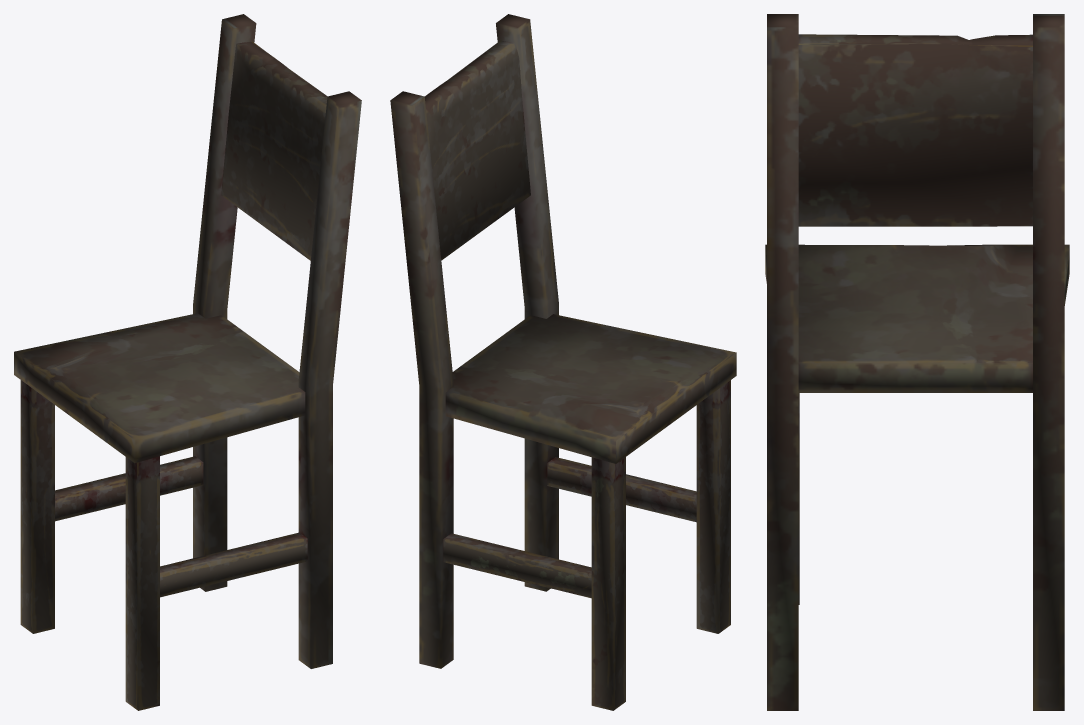
File: big_chair.fbx
3 renders of one model, left to right at view 1: azimuth 30°, elevation 25°; view 2: azimuth 150°, elevation 25°; view 3: azimuth 270°, elevation 25°, orthographic. The views are drawn at different scales.
Visible parts, largest first — view 1: chair_3_low.001; view 2: chair_3_low.001; view 3: chair_3_low.001.
Part boxes in pixels (left/top/right/bottom): chair_3_low.001: left=14, top=14, right=361, bottom=710; chair_3_low.001: left=390, top=14, right=736, bottom=710; chair_3_low.001: left=765, top=14, right=1069, bottom=710.
Size of the model in its own units: 74.16 by 173 by 68.04.
